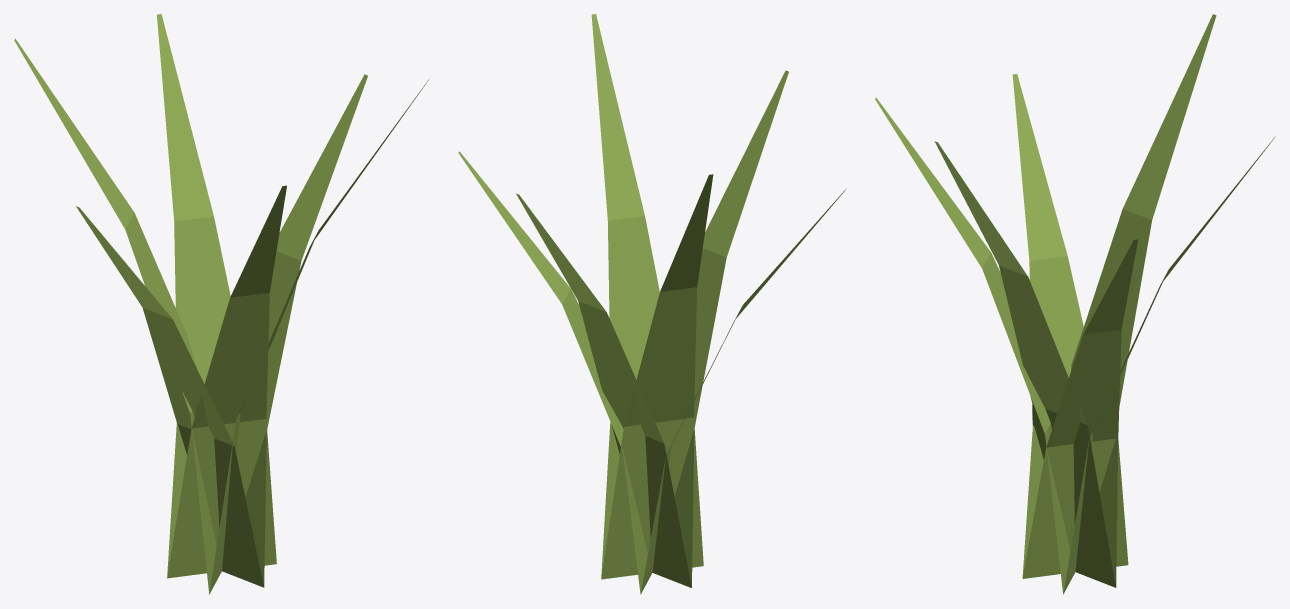
Rendered from grass.glb.
3 renders of one model, left to right at view 1: azimuth 30°, elevation 25°; view 2: azimuth 150°, elevation 25°; view 3: azimuth 270°, elevation 25°, orthographic. The views are drawn at different scales.
Visible parts, largest first — view 1: grass-clump; view 2: grass-clump; view 3: grass-clump.
Boxes of the visible parts, box(x1,y1,x2,y2) form: grass-clump: box(14, 14, 428, 594); grass-clump: box(458, 14, 846, 594); grass-clump: box(875, 14, 1275, 594).
Bounding box in the file's own units: 0.163 × 0.226 × 0.1662.
